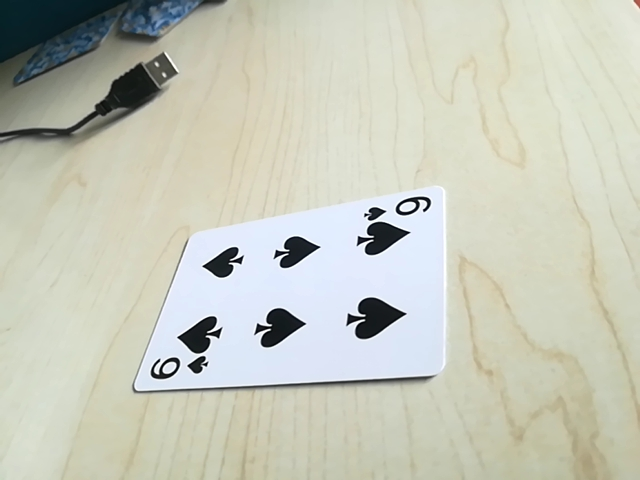ht 6: (138, 354, 217, 388), (361, 192, 436, 224)
